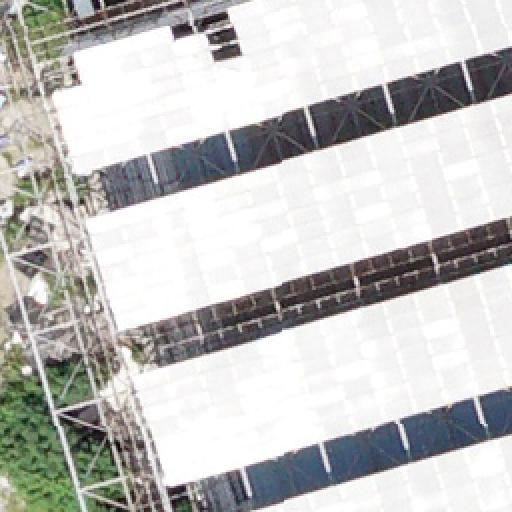solar-panel: (81, 93, 511, 331), (129, 261, 511, 491), (56, 0, 512, 176), (249, 433, 511, 511)
